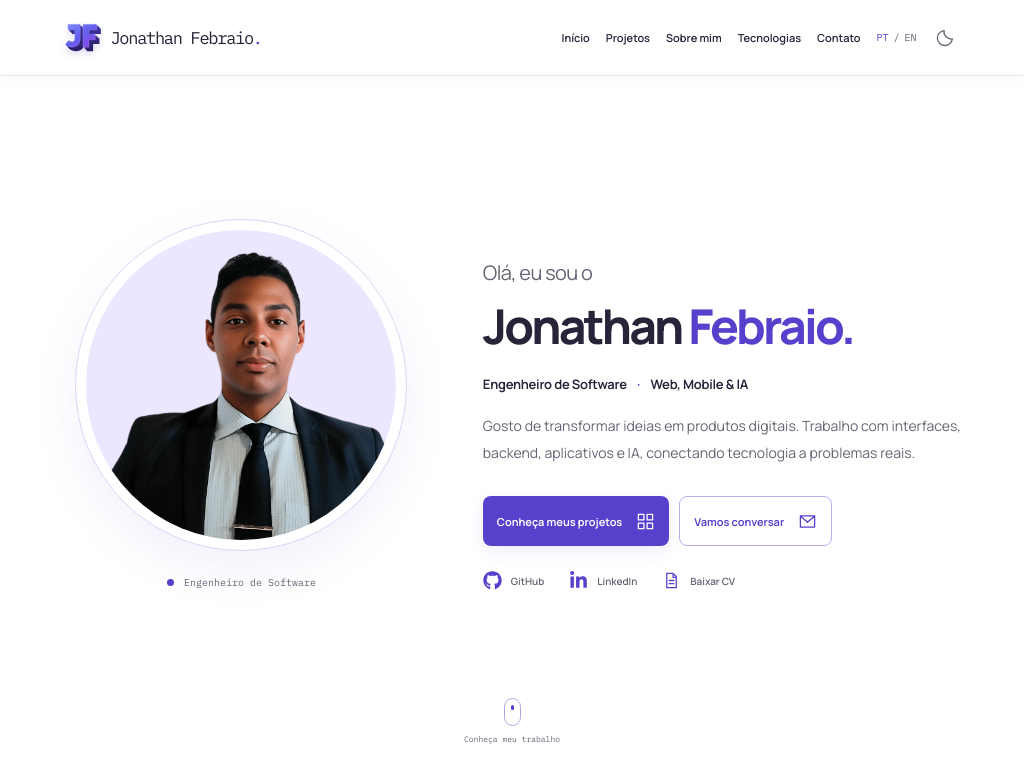
Test: Portfolio visitor journeys › changes language, document language and persisted preference
What coordinates should you click on to do the following:
click the button with aria-label "Switch to English"
I would click on:
 (897, 38)
Its box is [877, 16, 917, 59].
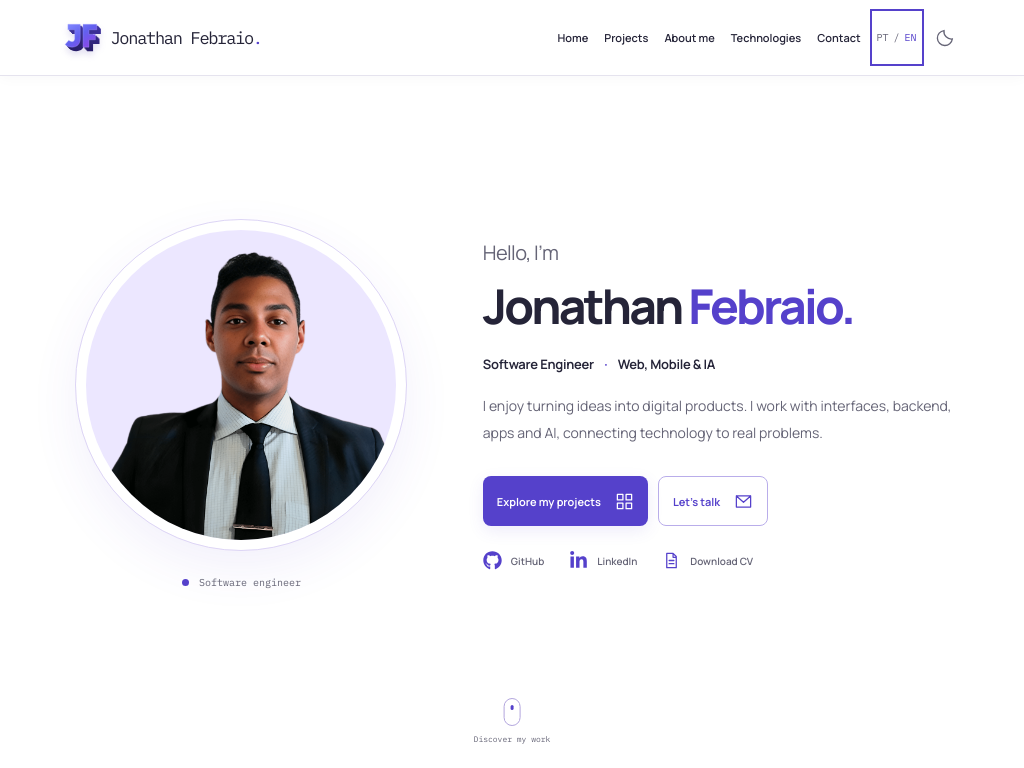
Now the text "Hello, I’m" is shown, box [483, 238, 558, 266]
What coordinates should you click on to do the following:
click the button with aria-label "Mudar para português"
I would click on:
 (897, 38)
Its box is [877, 16, 917, 59].
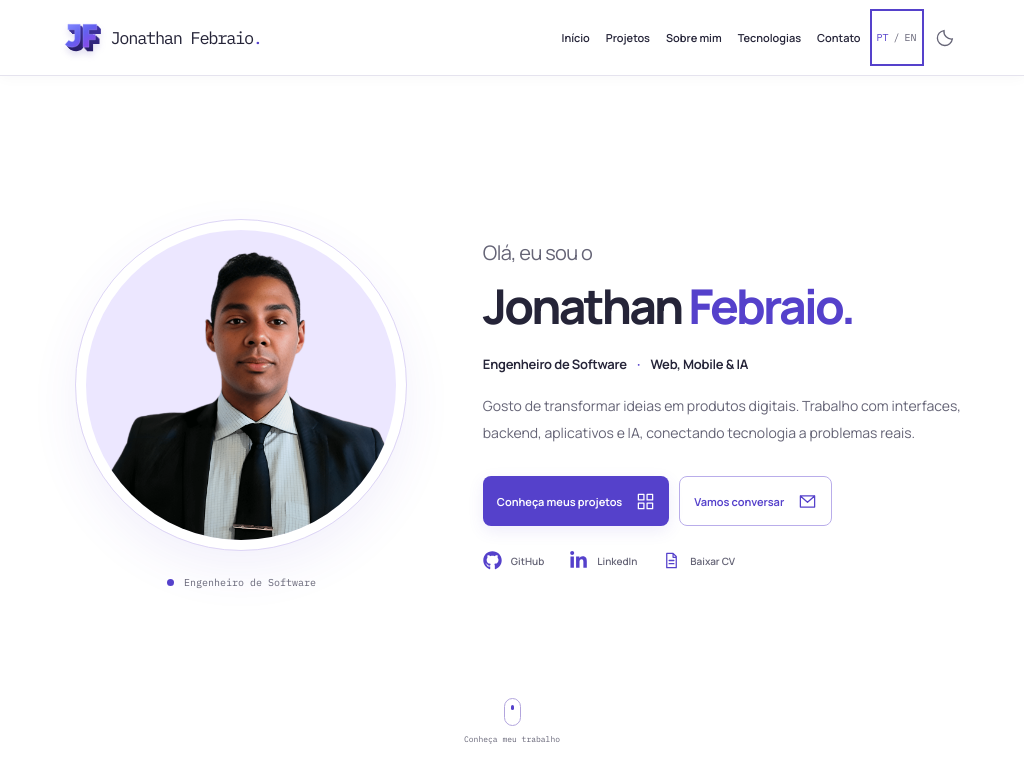
Now the text "Olá, eu sou o" is shown, box [483, 238, 592, 266]
